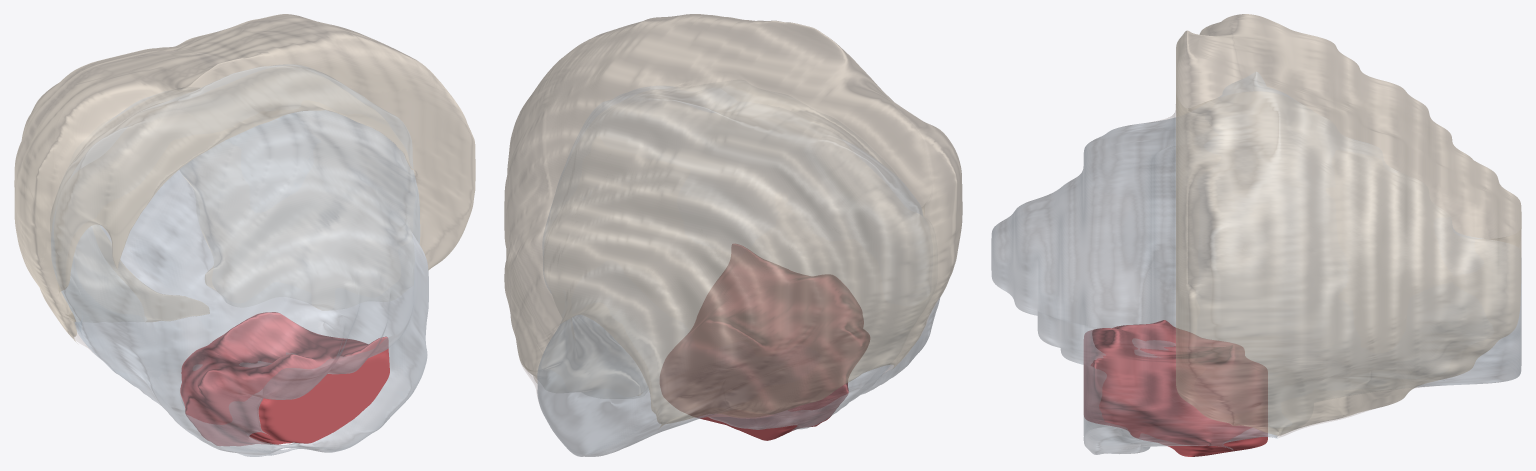
Rendered from model.pre-transform-20260528T065157.glb.
The picture shows the model from 3 angles, left to right: view 1: azimuth 30°, elevation 25°; view 2: azimuth 150°, elevation 25°; view 3: azimuth 270°, elevation 25°; orthographic projection. The views are drawn at different scales.
Visible parts, largest first — view 1: prostate_gland, transition_zone, peripheral_zone, lesion_01; view 2: prostate_gland, peripheral_zone, transition_zone, lesion_01; view 3: prostate_gland, peripheral_zone, transition_zone, lesion_01.
Part boxes in pixels (x1,y1,x2,y2): prostate_gland: [14, 14, 475, 456]; transition_zone: [51, 64, 428, 456]; peripheral_zone: [14, 14, 475, 343]; lesion_01: [180, 312, 389, 445]; prostate_gland: [504, 14, 962, 456]; peripheral_zone: [504, 14, 962, 427]; transition_zone: [537, 86, 939, 456]; lesion_01: [660, 244, 869, 440]; prostate_gland: [991, 14, 1521, 454]; peripheral_zone: [1176, 14, 1521, 435]; transition_zone: [991, 72, 1521, 454]; lesion_01: [1084, 320, 1267, 456].
Bounding box in the file's own units: 0.0637 × 0.0567 × 0.069.
